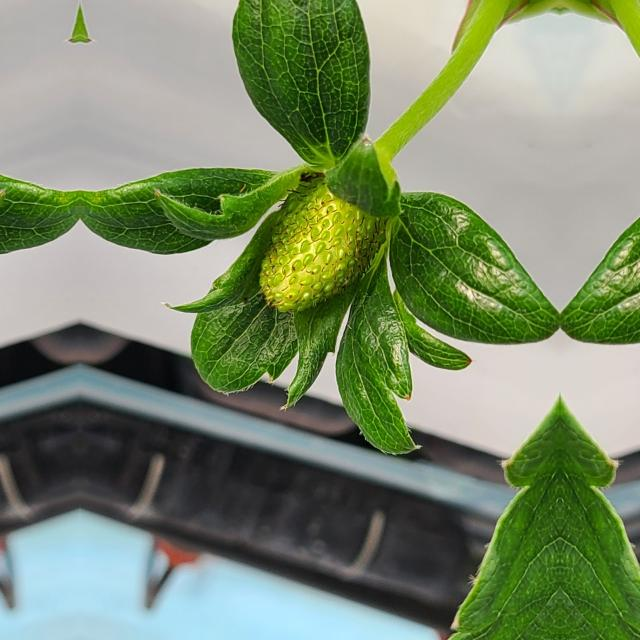Health_25: (259, 177, 379, 311)
